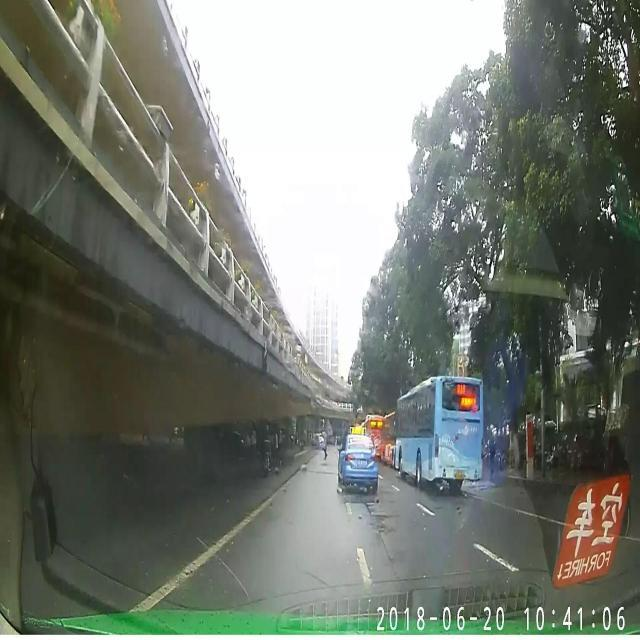car: (340, 432, 378, 489)
